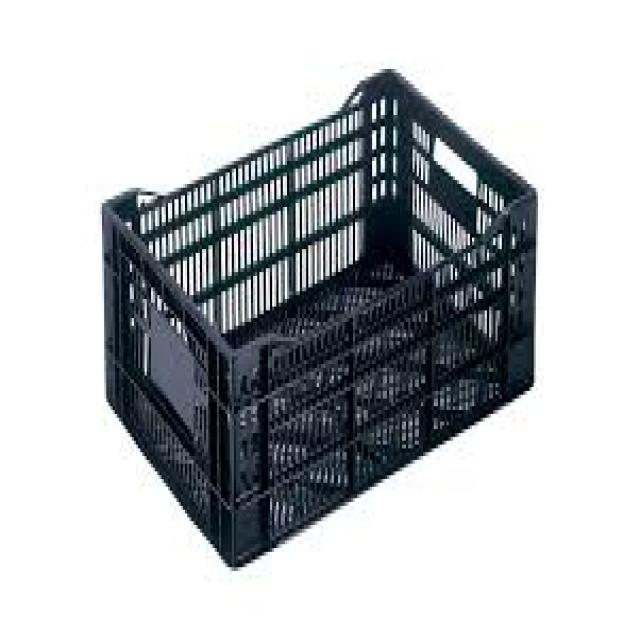basket: (19, 6, 623, 580)
